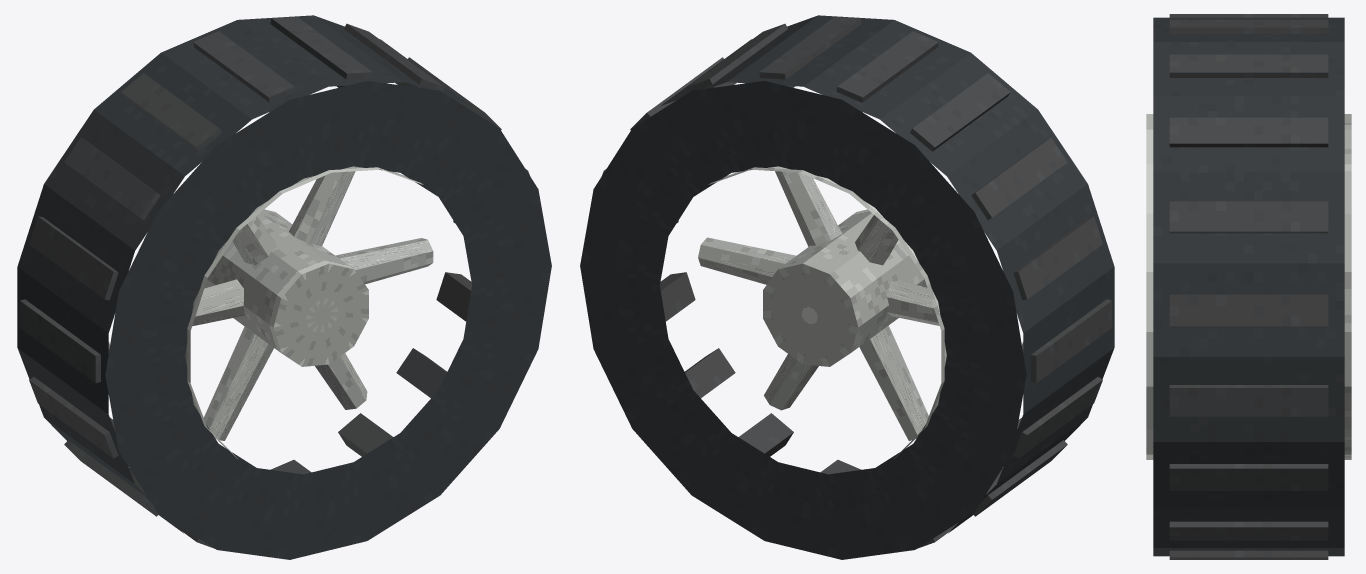
Rendered from wheel.glb.
3 views of the same model, side by side, from view 1: azimuth 30°, elevation 25°; view 2: azimuth 150°, elevation 25°; view 3: azimuth 270°, elevation 25° (orthographic). The views are drawn at different scales.
Visible parts, largest first — view 1: block_tire sidewall (×18), block_outer tire, block_raised tread (×12), block_hub, block_spoke (×6), block_rim wall; view 2: block_tire sidewall (×18), block_outer tire, block_raised tread (×12), block_hub, block_spoke (×6), block_rim wall; view 3: block_outer tire, block_raised tread (×10), block_rim wall (×2).
Part boxes in pixels (bbox=[...]): block_tire sidewall (×18): bbox=[105, 81, 551, 559]; block_outer tire: bbox=[17, 15, 470, 533]; block_raised tread (×12): bbox=[19, 16, 471, 516]; block_hub: bbox=[204, 209, 368, 366]; block_spoke (×6): bbox=[192, 171, 433, 440]; block_rim wall: bbox=[185, 166, 423, 459]; block_tire sidewall (×18): bbox=[580, 81, 1026, 559]; block_outer tire: bbox=[661, 15, 1114, 533]; block_raised tread (×12): bbox=[660, 16, 1112, 516]; block_hub: bbox=[763, 209, 927, 366]; block_spoke (×6): bbox=[698, 171, 939, 440]; block_rim wall: bbox=[708, 166, 946, 459]; block_outer tire: bbox=[1153, 17, 1344, 556]; block_raised tread (×10): bbox=[1169, 14, 1328, 559]; block_rim wall (×2): bbox=[1146, 114, 1351, 459].
Bounding box in the file's own units: 0.432 × 0.4298 × 0.1626.
Materials: 1 (1 with a texture image).
